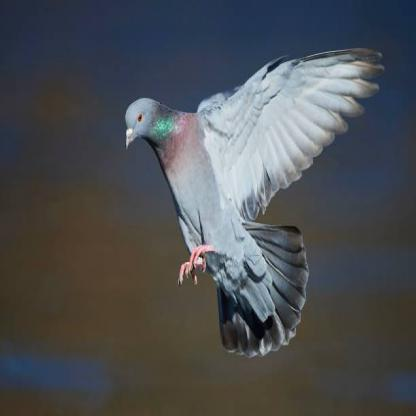Flying Rat: (123, 49, 380, 352)
